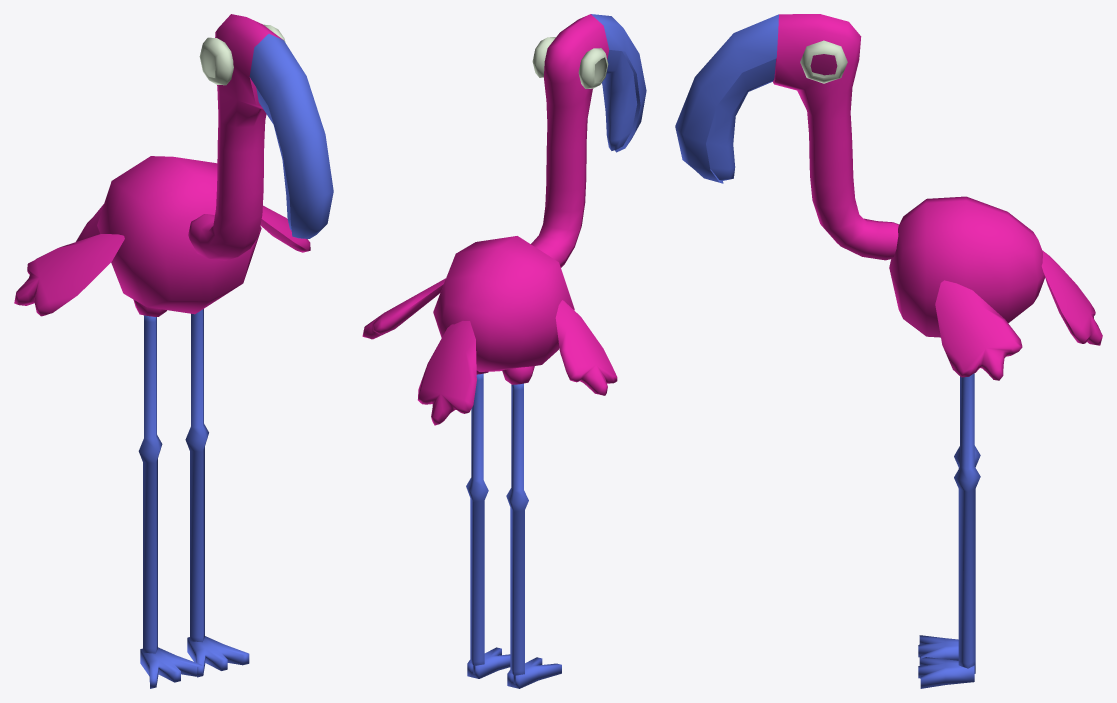
Rendered from flamingo.fbx.
3 renders of one model, left to right at view 1: azimuth 30°, elevation 25°; view 2: azimuth 150°, elevation 25°; view 3: azimuth 270°, elevation 25°, orthographic. The views are drawn at different scales.
Visible parts, largest first — view 1: flamingo; view 2: flamingo; view 3: flamingo.
Part boxes in pixels (left/top/right/bottom): flamingo: left=14, top=14, right=333, bottom=688; flamingo: left=362, top=14, right=646, bottom=688; flamingo: left=675, top=14, right=1102, bottom=688.
Bounding box in the file's own units: 52.42 × 125 × 74.21.
